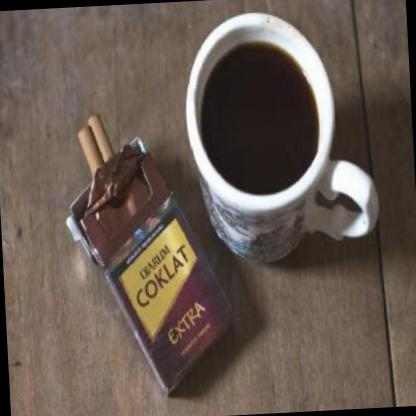objects: (60, 106, 238, 400)
